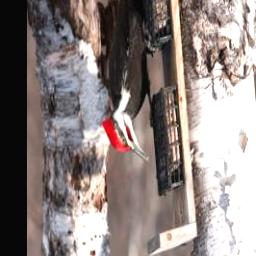Woodpecker: (99, 0, 160, 164)
